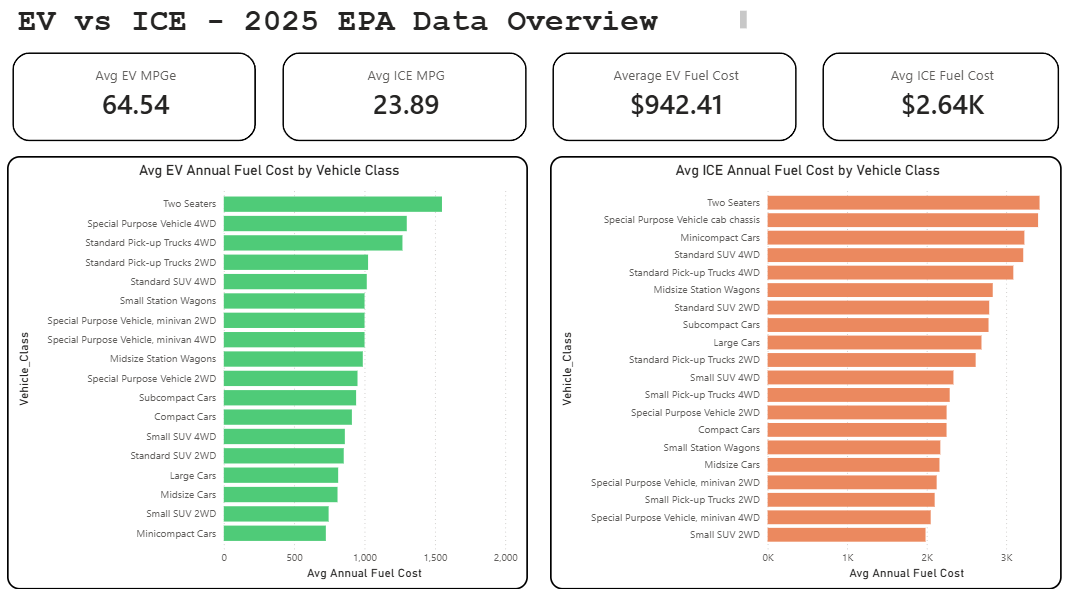

The dashboard page shown, as its layout file describes it:
{"tool":"powerbi","page":{"name":"Overview","canvas":[1280,720],"ordinal":0},"visuals":[{"type":"textbox","box":[20.2,22.6,877.1,40.5],"z":0},{"type":"group","id":"g1","title":"Group 1","box":[1,63,1280,140.8],"z":1000},{"type":"cardVisual","fields":{"Data":["Avg(EPA_EV_Clean.Combined_MPGe)"]},"box":[1,63,325,140.4],"z":1000,"group":"g1"},{"type":"cardVisual","fields":{"Data":["Avg(EPA_FE_Ratings_Clean.Combined_MPG)"]},"box":[322.5,63.1,325.1,140.7],"z":2000,"group":"g1"},{"type":"clusteredBarChart","title":"Avg EV Annual Fuel Cost by Vehicle Class","fields":{"Y":["Avg(EPA_EV_Clean.Annual_Fuel_Cost)"],"Category":["EPA_EV_Clean.Vehicle_Class"]},"box":[11.9,203.5,620,516.5],"z":2000},{"type":"cardVisual","fields":{"Data":["Avg(EPA_EV_Clean.Annual_Fuel_Cost)"]},"box":[643.7,63.1,325.1,140.7],"z":3000,"group":"g1"},{"type":"clusteredBarChart","title":"Avg ICE Annual Fuel Cost by Vehicle Class","fields":{"Y":["Avg(EPA_FE_Ratings_Clean.Annual_Fuel_Cost)"],"Category":["EPA_FE_Ratings_Clean.Vehicle_Class"]},"box":[658.1,203.5,609.3,516.5],"z":3000},{"type":"cardVisual","fields":{"Data":["Avg(EPA_FE_Ratings_Clean.Annual_Fuel_Cost)"]},"box":[964.9,63.1,316.1,140.7],"z":4000,"group":"g1"}]}

Visuals, with their boxes in screenshot pixels (x1, y1, x2, y2), scaled from the page's 1280x720 canvas onto the 1065x589 screenshot:
textbox: (left=17, top=18, right=747, bottom=52)
"Group 1" group: (left=1, top=52, right=1064, bottom=167)
cardVisual - Avg(EPA_EV_Clean.Combined_MPGe): (left=1, top=52, right=271, bottom=166)
cardVisual - Avg(EPA_FE_Ratings_Clean.Combined_MPG): (left=268, top=52, right=539, bottom=167)
"Avg EV Annual Fuel Cost by Vehicle Class" clusteredBarChart: (left=10, top=166, right=526, bottom=588)
cardVisual - Avg(EPA_EV_Clean.Annual_Fuel_Cost): (left=536, top=52, right=806, bottom=167)
"Avg ICE Annual Fuel Cost by Vehicle Class" clusteredBarChart: (left=548, top=166, right=1055, bottom=588)
cardVisual - Avg(EPA_FE_Ratings_Clean.Annual_Fuel_Cost): (left=803, top=52, right=1064, bottom=167)
